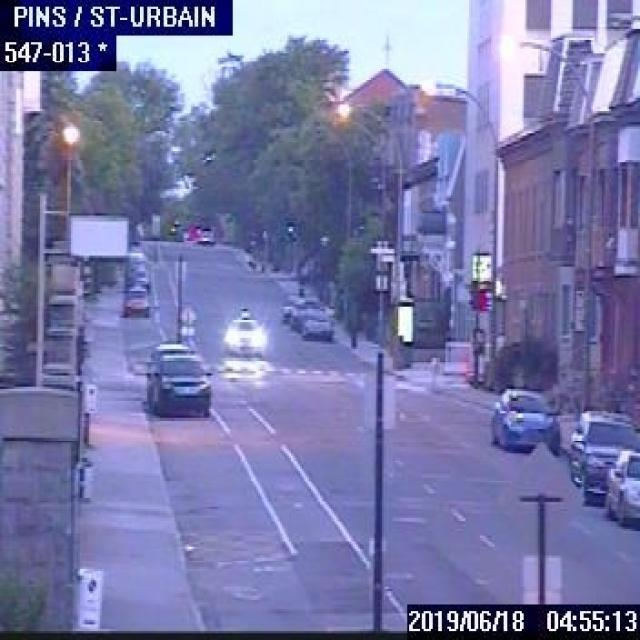vehicle: (566, 404, 638, 504), (489, 387, 560, 449), (151, 353, 213, 415), (144, 339, 192, 406), (600, 449, 638, 527), (224, 305, 264, 356), (289, 298, 319, 330), (299, 309, 331, 337), (122, 284, 150, 314), (280, 293, 301, 322), (124, 276, 148, 292), (195, 225, 212, 243)
